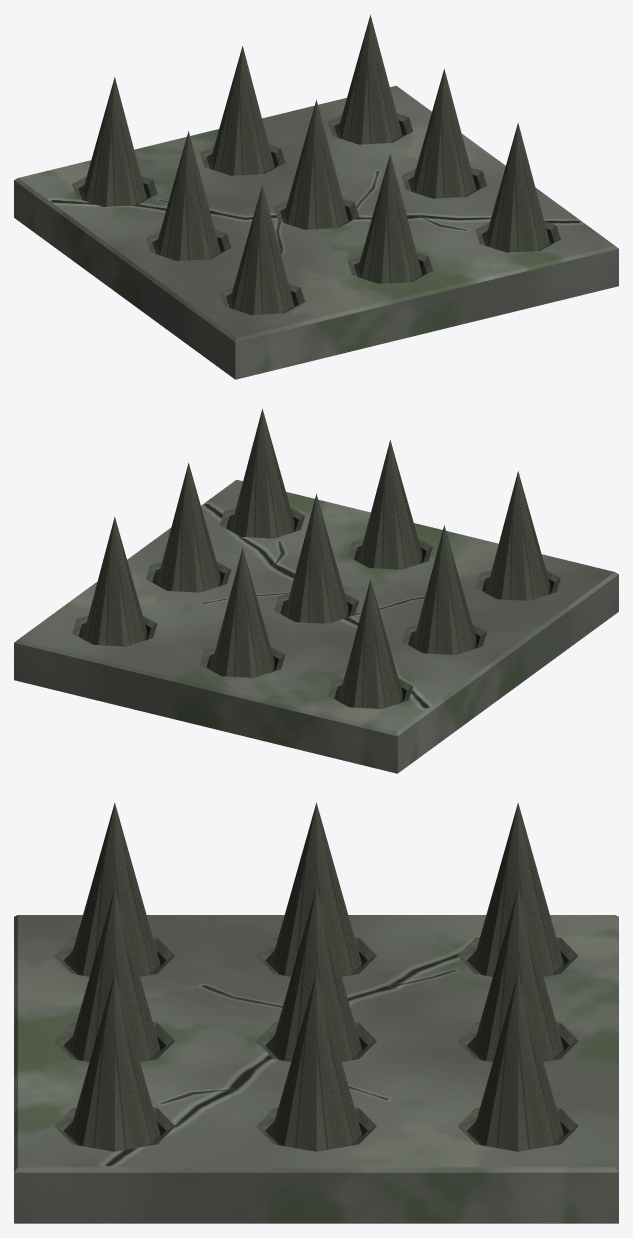
The model's file is SpikeTrap.fbx.
The picture shows the model from 3 angles, top to bottom: view 1: azimuth 30°, elevation 25°; view 2: azimuth 150°, elevation 25°; view 3: azimuth 270°, elevation 25°; orthographic projection. The views are drawn at different scales.
Visible parts, largest first — view 1: SM_Spike_Base, SM_Spikes_Move_Y; view 2: SM_Spike_Base, SM_Spikes_Move_Y; view 3: SM_Spike_Base, SM_Spikes_Move_Y.
Part boxes in pixels (x1,y1,x2,y2): SM_Spike_Base: (14, 85, 618, 379); SM_Spikes_Move_Y: (82, 14, 550, 314); SM_Spike_Base: (14, 479, 618, 773); SM_Spikes_Move_Y: (82, 408, 550, 708); SM_Spike_Base: (14, 915, 618, 1223); SM_Spikes_Move_Y: (69, 802, 563, 1151).
Size of the model in its own units: 300 by 114 by 300.
Materials: 3 (2 with a texture image).
